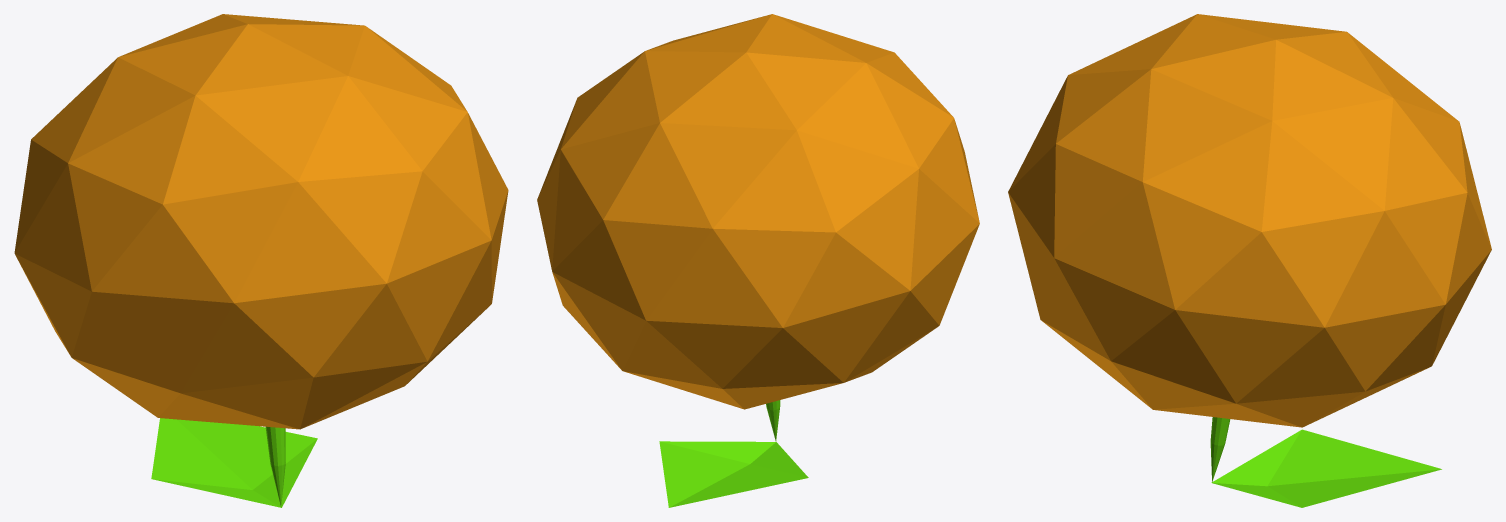
The model's file is SM_Orange.fbx.
The picture shows the model from 3 angles, left to right: view 1: azimuth 30°, elevation 25°; view 2: azimuth 150°, elevation 25°; view 3: azimuth 270°, elevation 25°; orthographic projection. The views are drawn at different scales.
Parts seen in each view (by area): view 1: Orange; view 2: Orange; view 3: Orange.
Boxes of the visible parts, <box> form: Orange: <box>14,14,508,507</box>; Orange: <box>537,14,979,507</box>; Orange: <box>1008,14,1491,507</box>.
Size of the model in its own units: 21.76 by 23.69 by 22.69.
